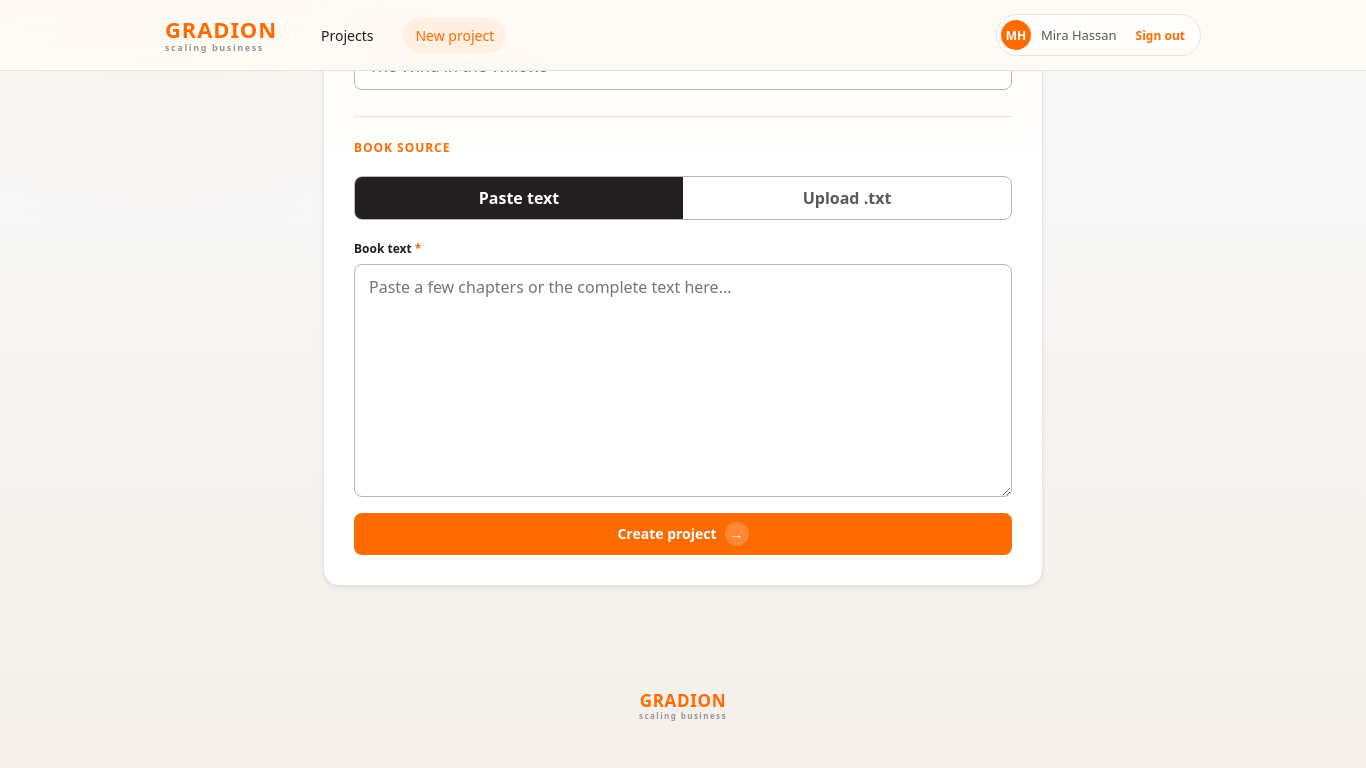
Scenario: frontend flow › validates new project input
(page scrolled)
Click the button "Create project →": click(683, 534) [354,513,1012,555]
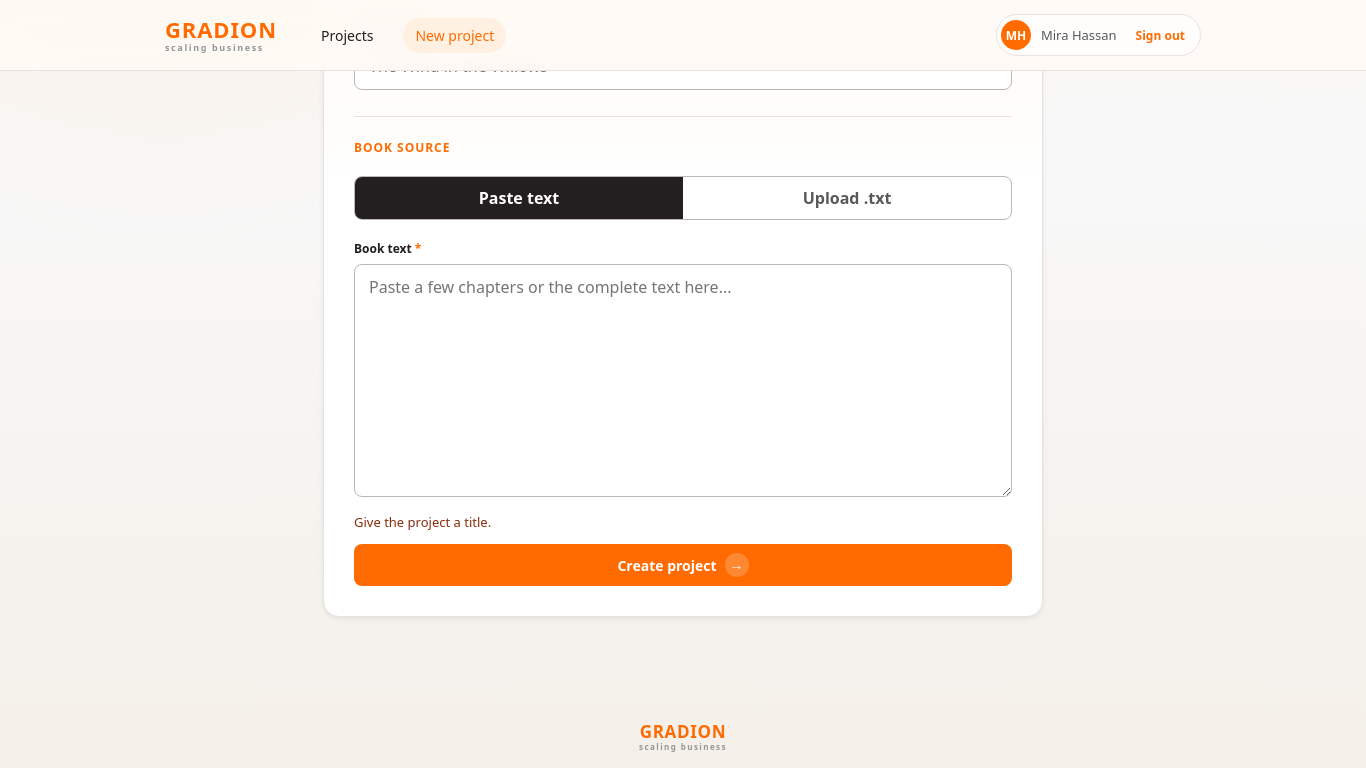
Check: the text "Give the project a title." is shown, box [354,513,491,531]
